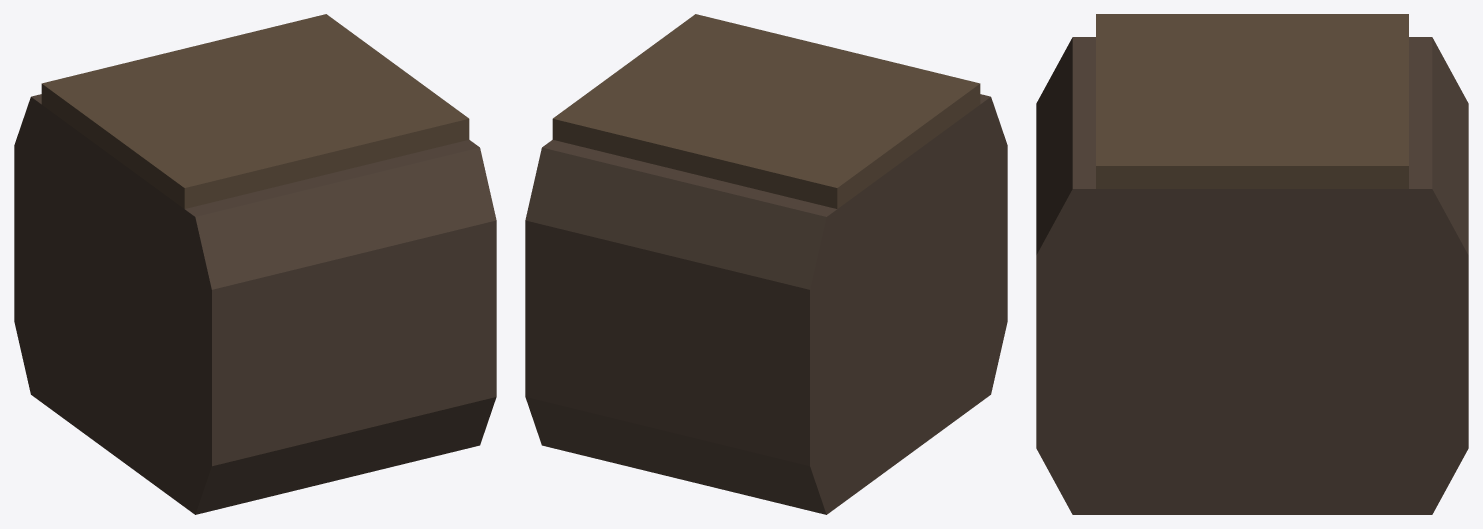
Rendered from Block Center.fbx.
The picture shows the model from 3 angles, left to right: view 1: azimuth 30°, elevation 25°; view 2: azimuth 150°, elevation 25°; view 3: azimuth 270°, elevation 25°; orthographic projection. The views are drawn at different scales.
Parts seen in each view (by area): view 1: Куб.019; view 2: Куб.019; view 3: Куб.019.
Boxes of the visible parts, left/top/right/bottom form: Куб.019: left=14, top=14, right=496, bottom=514; Куб.019: left=525, top=14, right=1007, bottom=514; Куб.019: left=1036, top=14, right=1468, bottom=514.
Size of the model in its own units: 14.93 by 15.99 by 17.94.
